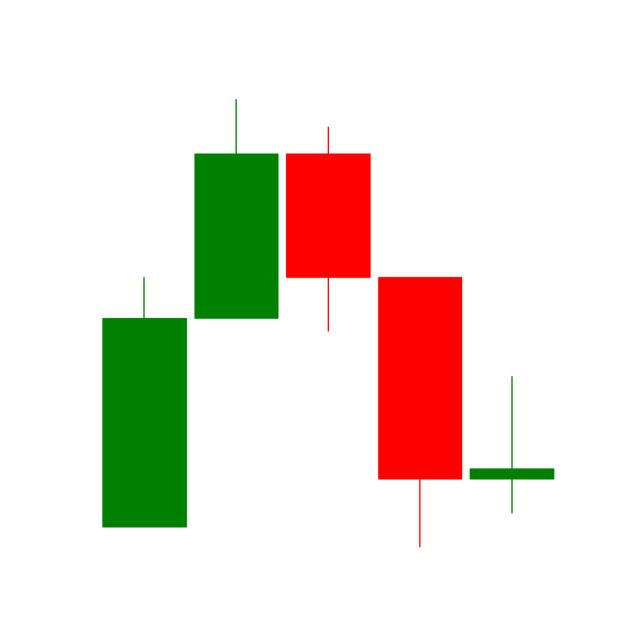Gravenstone Doji: (283, 122, 373, 334), (470, 376, 555, 515)
